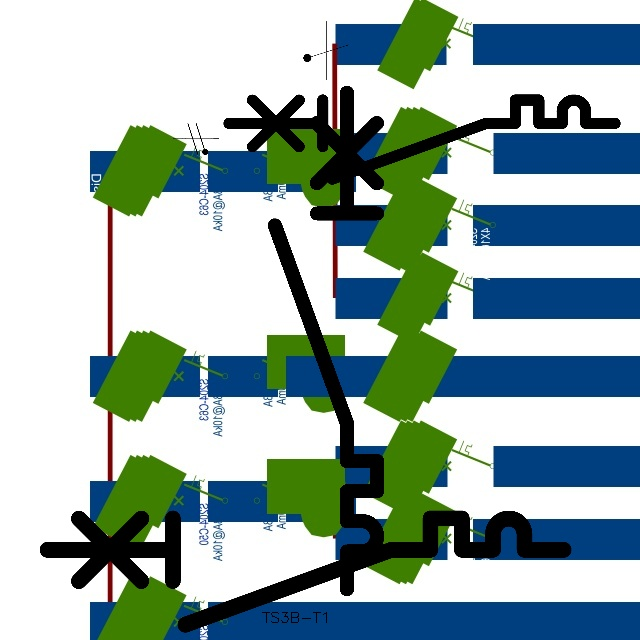interruptor_termomagnetico: (34, 505, 577, 638), (262, 80, 390, 602), (218, 90, 624, 189)
